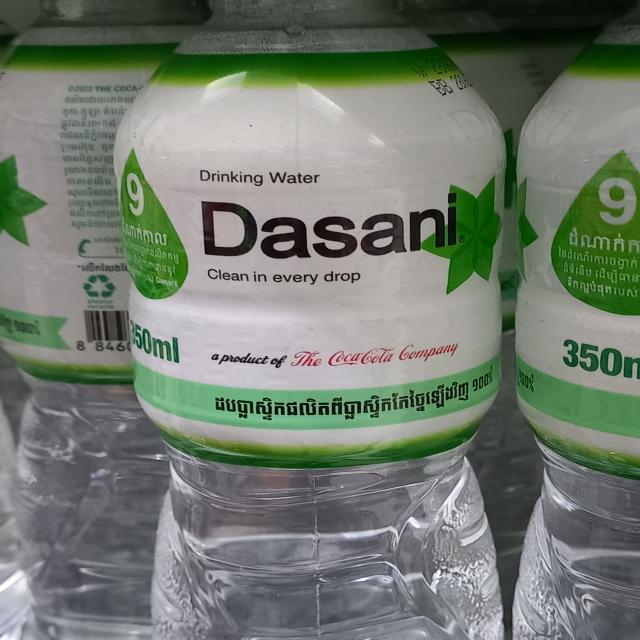Yolov11kh: (211, 365, 496, 428), (554, 335, 625, 382), (593, 174, 639, 230), (568, 226, 626, 256)
